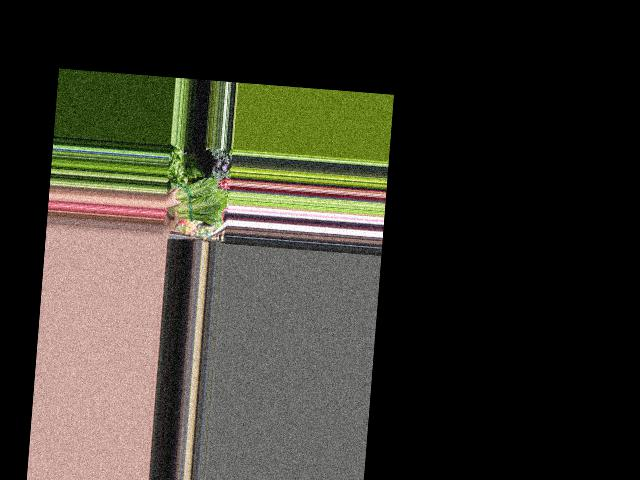lettuce: (163, 173, 226, 225)
